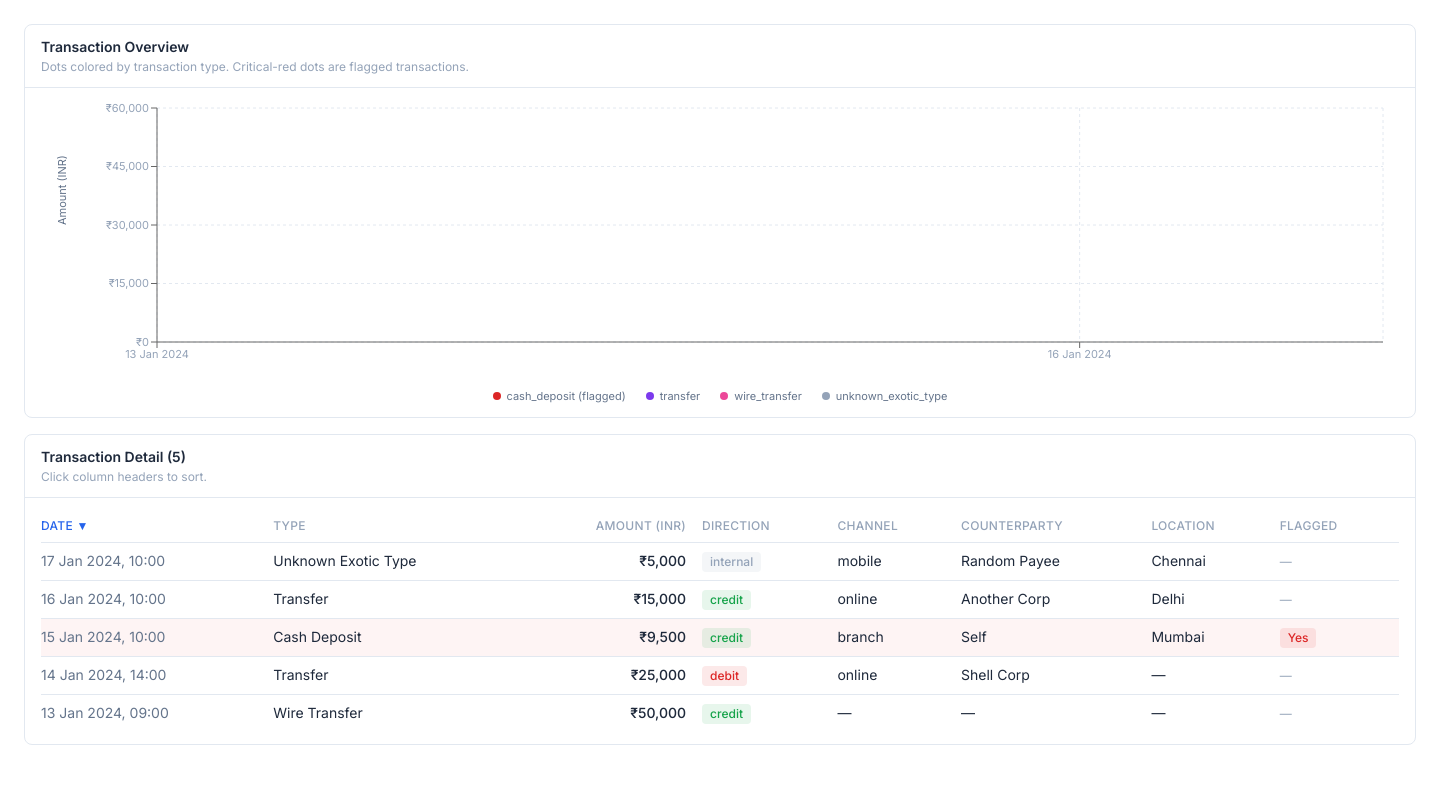
Test: TransactionTimeline › sorts by Direction column
Click the column heading "Direction": point(770, 526) [702, 510, 838, 542]
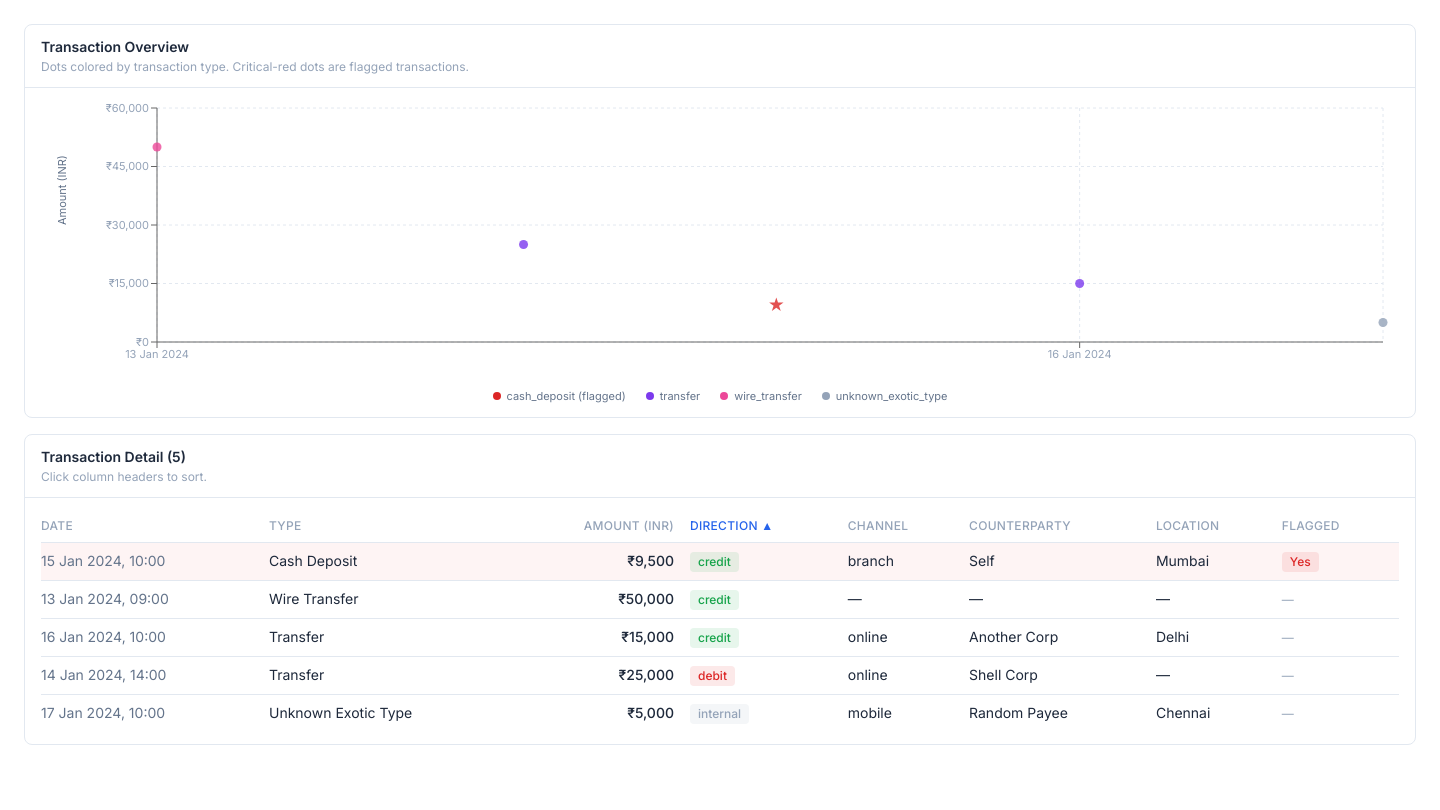
Result: the column heading "Direction ▲" is shown at [690, 510, 848, 542]
